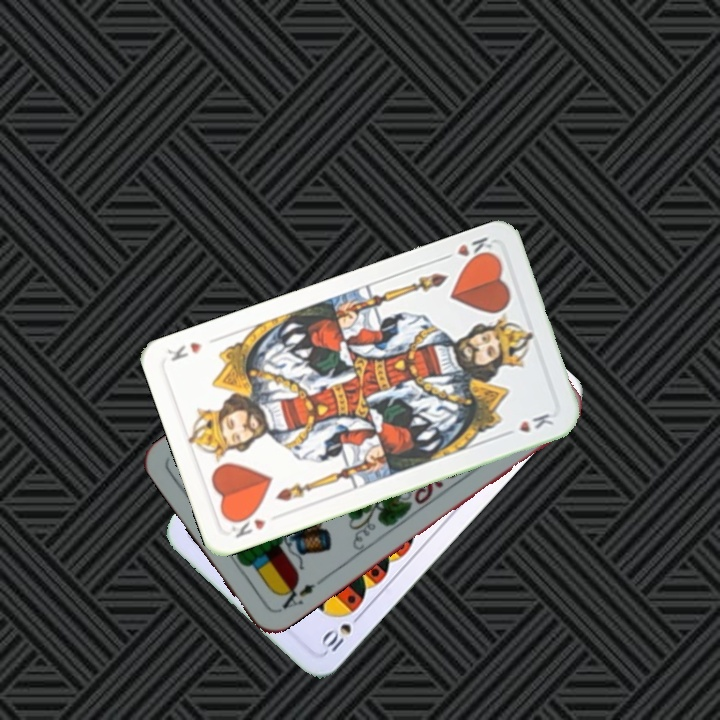EA: (273, 577, 319, 615)
HK: (437, 233, 498, 267), (226, 508, 269, 541)
S10: (317, 608, 366, 656)
